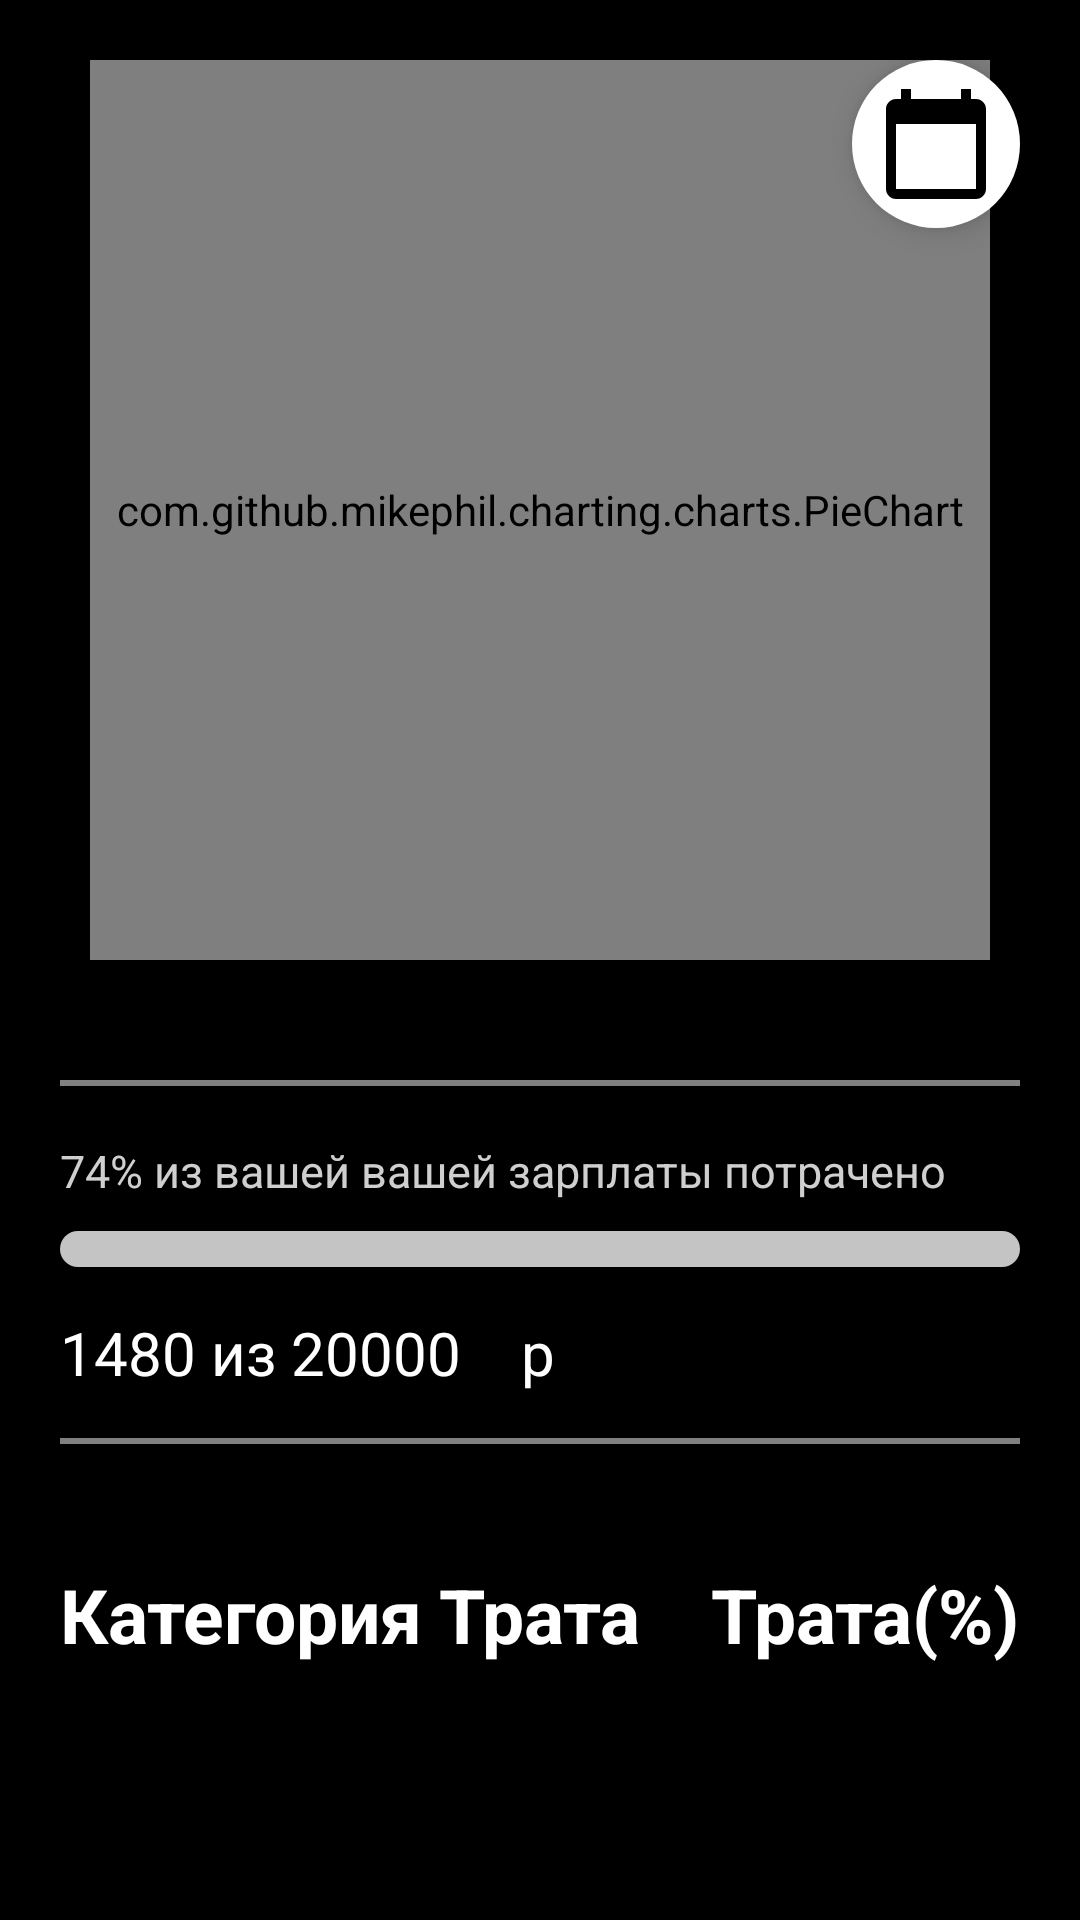

Where to tap for icons on this 1080px×1920px app screen, as point (x, y):
calendaricon: point (936, 144)
